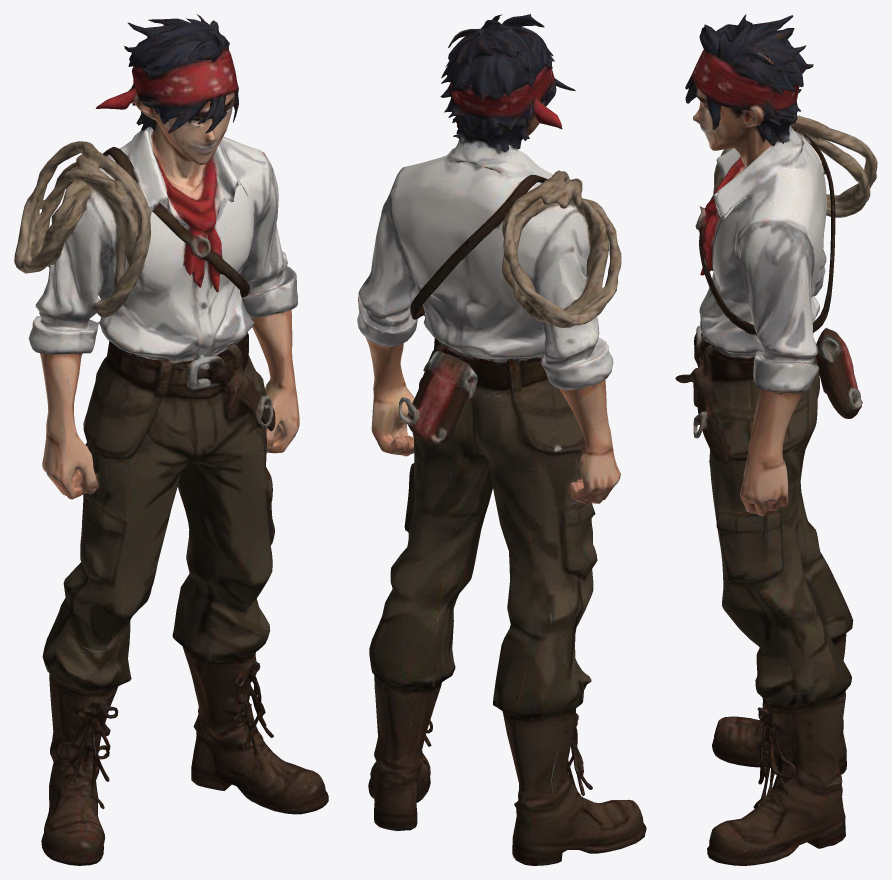
The model's file is token_deckhand.glb.
3 renders of one model, left to right at view 1: azimuth 30°, elevation 25°; view 2: azimuth 150°, elevation 25°; view 3: azimuth 270°, elevation 25°, orthographic. The views are drawn at different scales.
Bounding box in the file's own units: 0.3104 × 0.8793 × 0.2049.
1 material, 1 textured.
